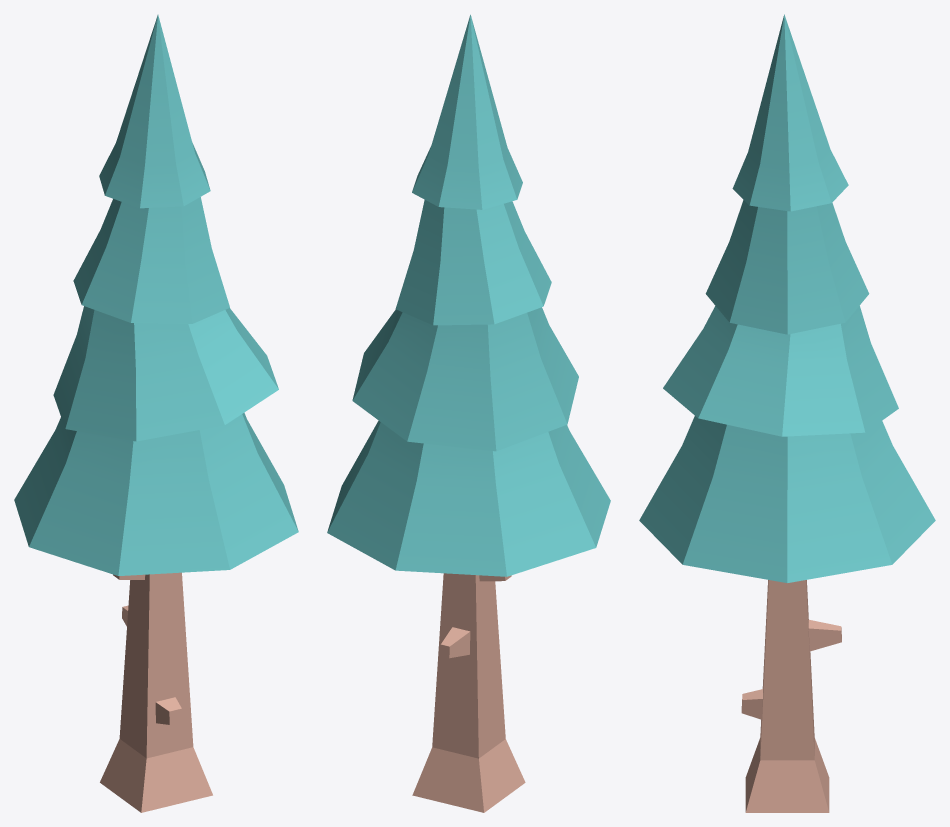
Rendered from treePine.glb.
3 renders of one model, left to right at view 1: azimuth 30°, elevation 25°; view 2: azimuth 150°, elevation 25°; view 3: azimuth 270°, elevation 25°, orthographic.
Visible parts, largest first — view 1: treePine; view 2: treePine; view 3: treePine.
Boxes of the visible parts, x1=… form: treePine: x1=14, y1=14, x2=298, y2=812; treePine: x1=327, y1=14, x2=610, y2=812; treePine: x1=639, y1=14, x2=935, y2=812.
Bounding box in the file's own units: 0.532 × 1.55 × 0.532.
